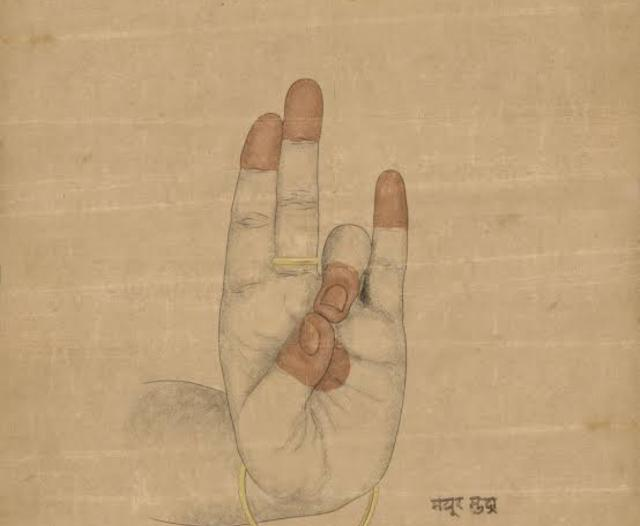mayur: (185, 58, 472, 520), (217, 78, 408, 526)
